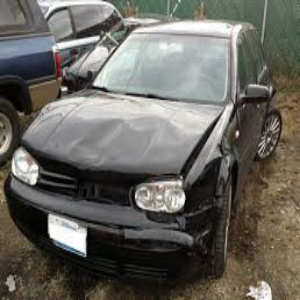bonnet: (41, 103, 197, 170)
bumper: (156, 223, 215, 281)
